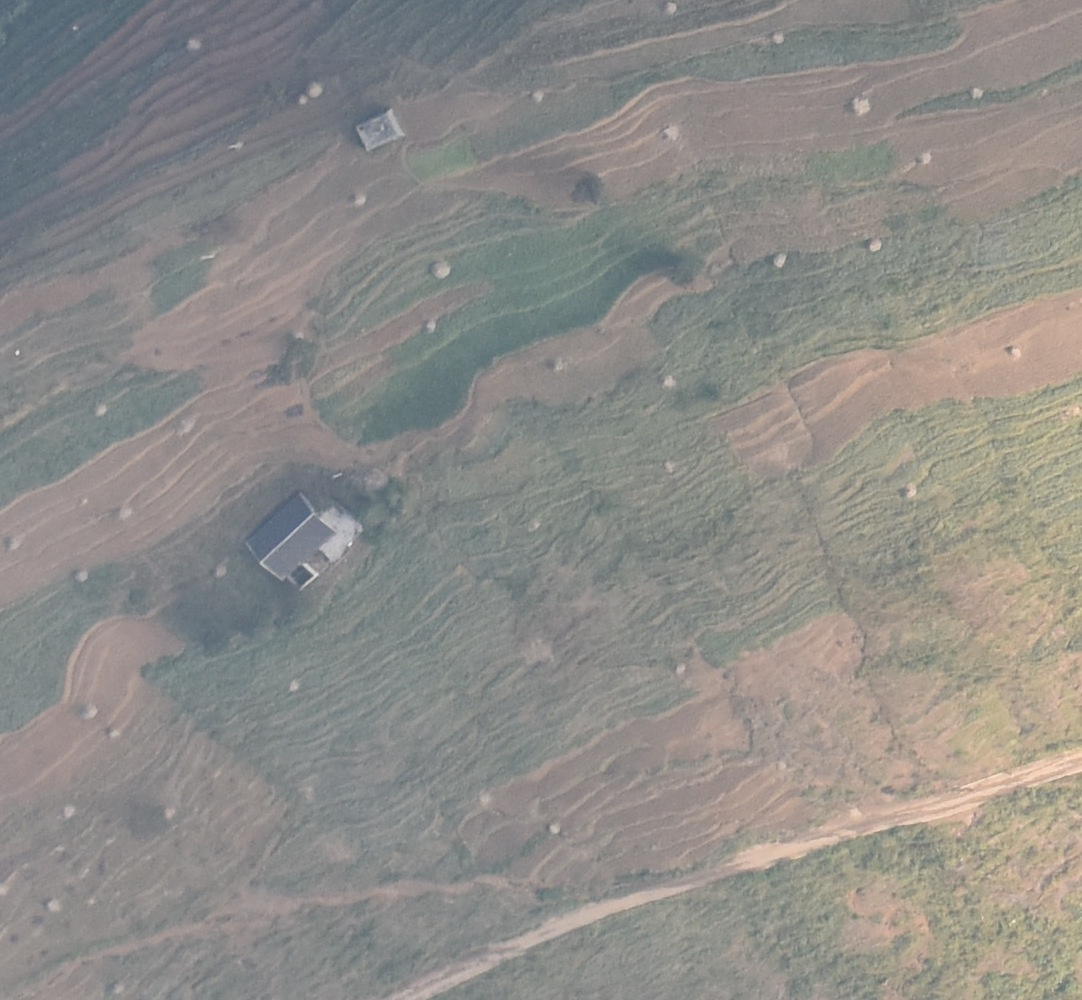building: (243, 493, 365, 593), (355, 113, 403, 153)
